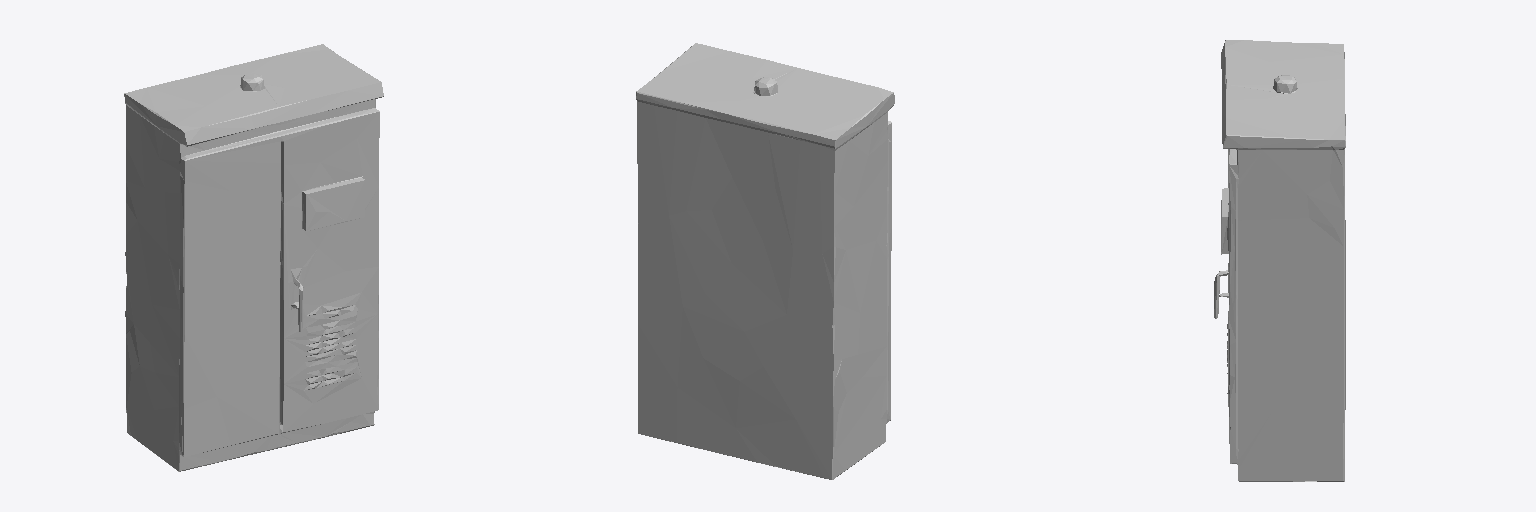
File: cabin.obj
3 views of the same model, side by side, from view 1: azimuth 30°, elevation 25°; view 2: azimuth 150°, elevation 25°; view 3: azimuth 270°, elevation 25° (orthographic).
Parts seen in each view (by area): view 1: Aset_street__L_uh4ffdmga_LOD5; view 2: Aset_street__L_uh4ffdmga_LOD5; view 3: Aset_street__L_uh4ffdmga_LOD5.
Part boxes in pixels (x1,y1,x2,y2): Aset_street__L_uh4ffdmga_LOD5: (124,44,383,471); Aset_street__L_uh4ffdmga_LOD5: (636,43,894,479); Aset_street__L_uh4ffdmga_LOD5: (1214,40,1345,481).
Bounding box in the file's own units: 93.32 × 160 × 53.85.